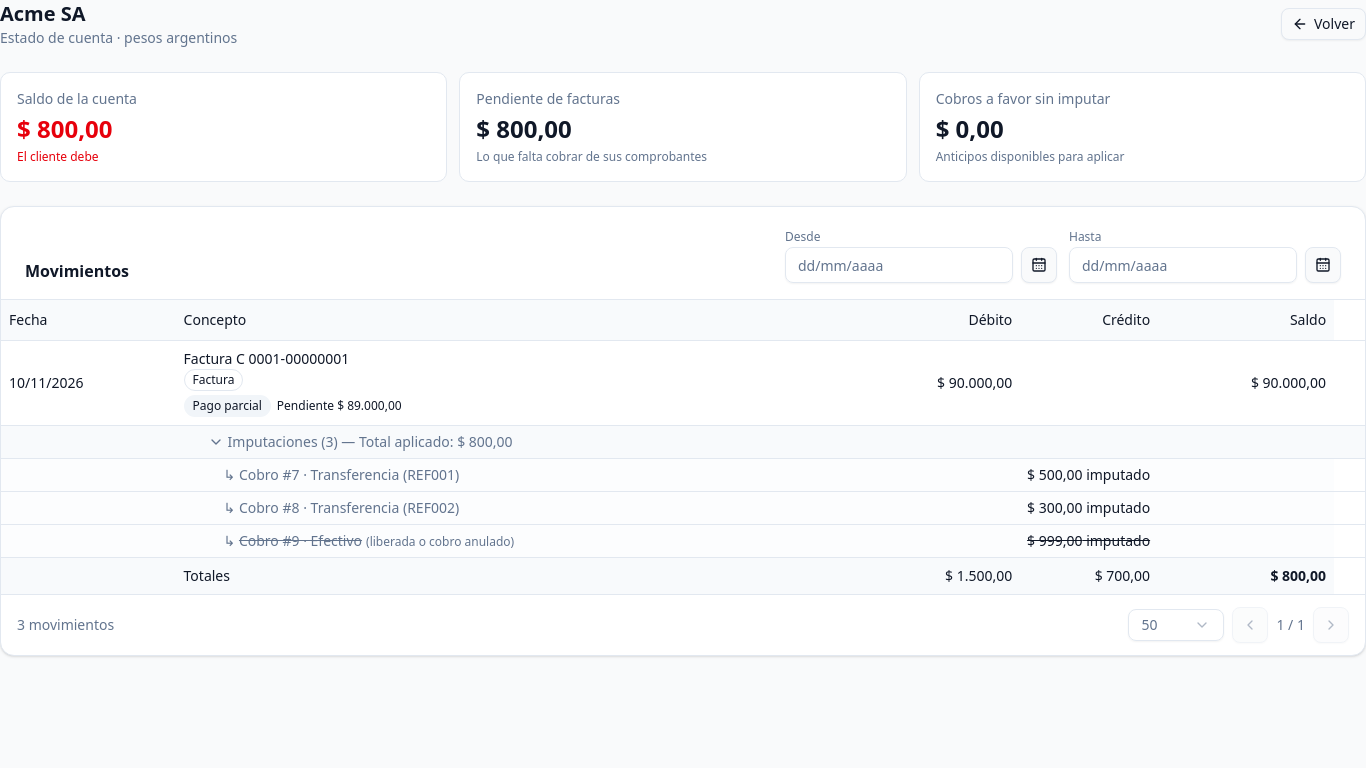
Scenario: Estado de cuenta del cliente › al hacer clic en un cobro (en su fila o bajo la factura) se abre su detalle
Click the button "Cobro #7 · Transferencia (REF001)" at (349, 474), box [239,464,459,484]
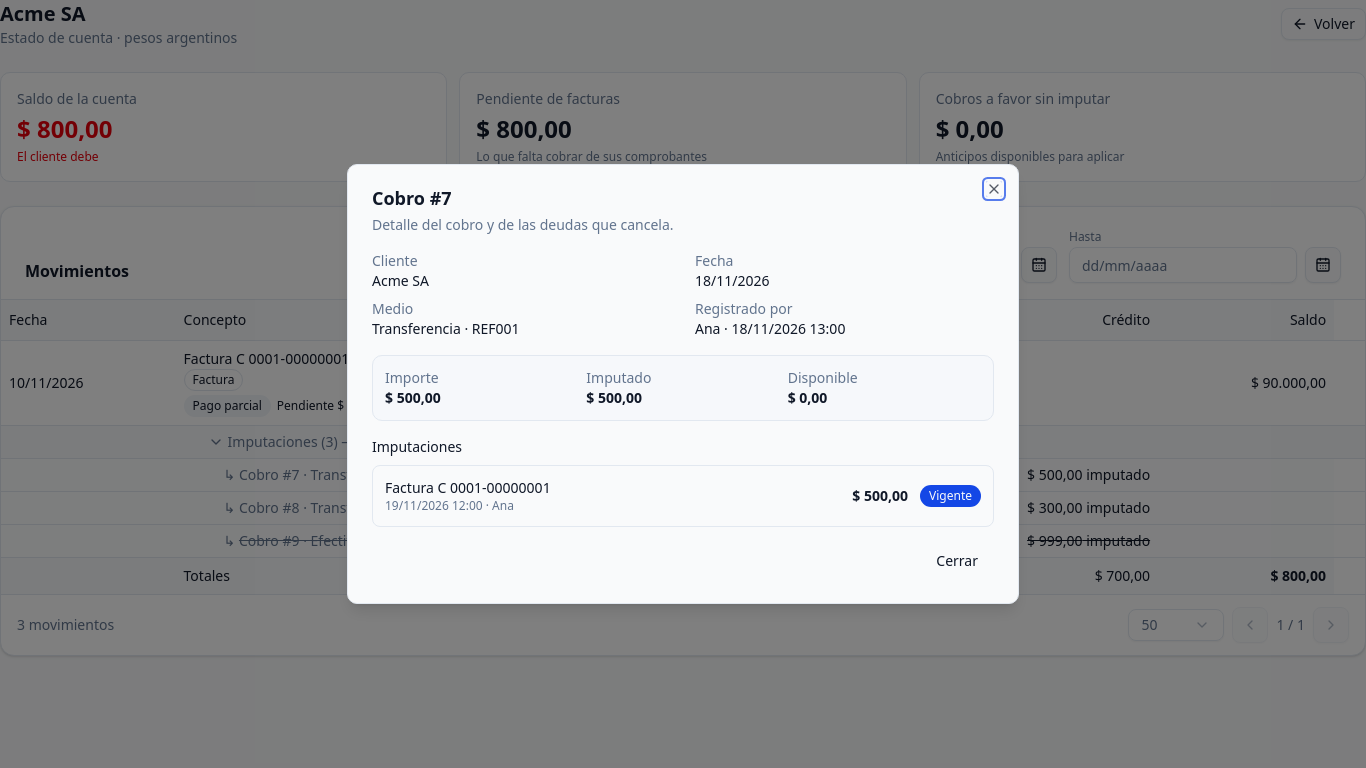
Expected: the dialog is shown, [347,164,1019,604]
